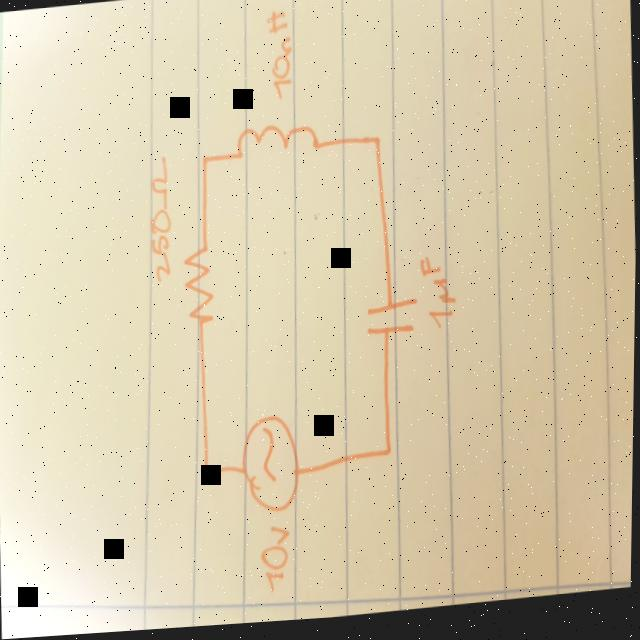capacitor: (366, 298, 419, 344)
inductor: (234, 123, 320, 171)
junction: (196, 459, 220, 490), (196, 150, 215, 177), (367, 136, 385, 159), (377, 443, 397, 463)
resistor: (179, 245, 219, 332)
source: (241, 413, 303, 521)
text: (146, 156, 178, 286), (257, 518, 299, 599), (418, 258, 462, 334), (265, 11, 297, 104)
